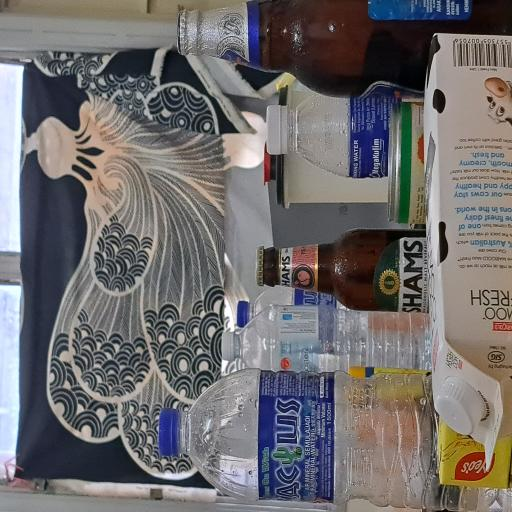glass bottle: (307, 226, 384, 512), (151, 341, 211, 512)
plastic bottle: (3, 245, 109, 512), (252, 382, 319, 512), (110, 321, 151, 512)
plastic bottle cap: (266, 350, 307, 388), (39, 209, 77, 239), (139, 308, 159, 336), (116, 287, 130, 313)
